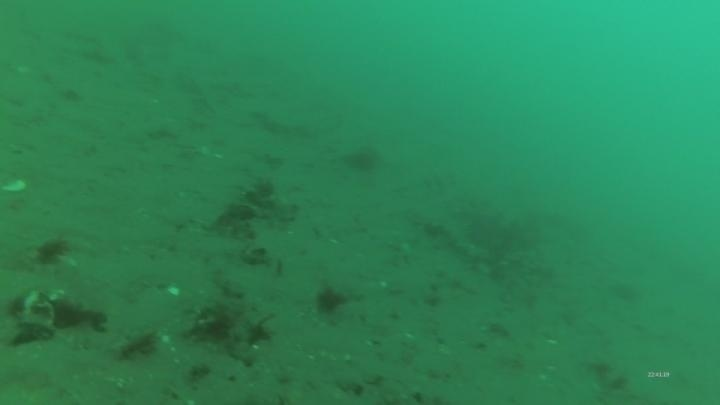echinus: (32, 234, 72, 267), (312, 283, 349, 318)
